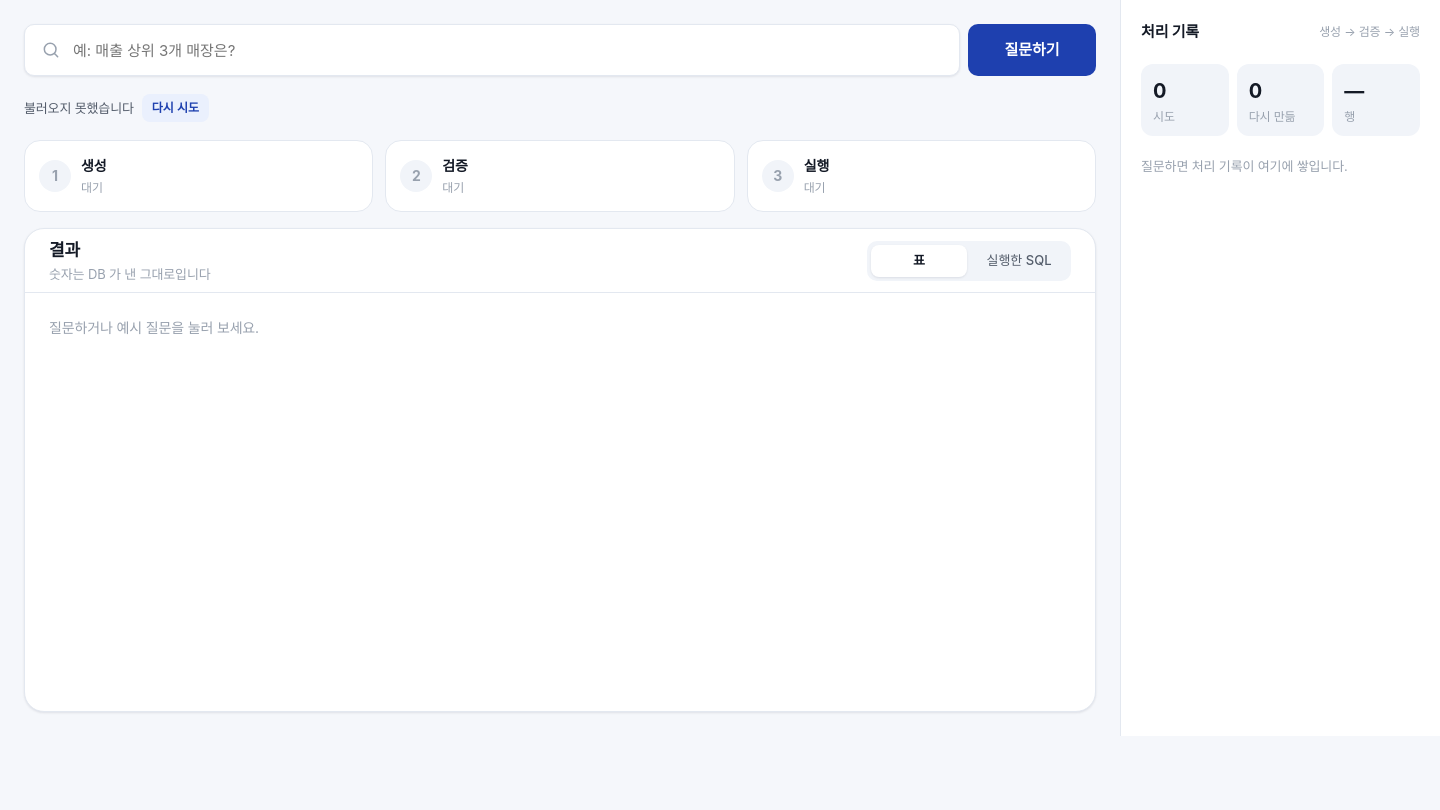
Test case: AskQuery › 예시 질문을 못 불러오면 안내와 다시 시도를 보이고, 다시 시도하면 다시 부른다 (SCR-R014)
Expected: the text "불러오지 못했습니다" is shown, [24,98,134,118]
What coordinates should you click on to do the following:
click the button "다시 시도"
I would click on:
 (175, 108)
Its box is [142,94,209,122].
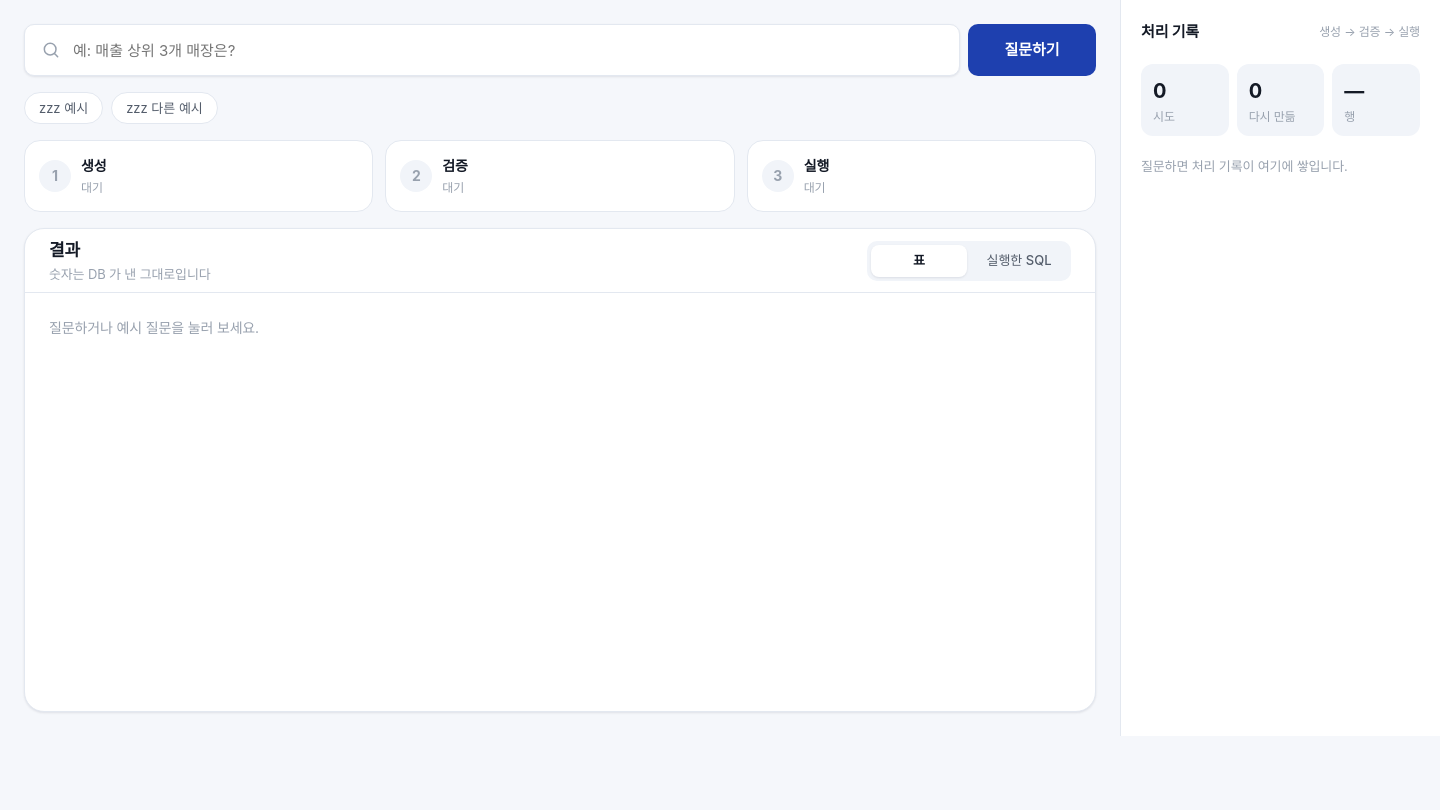
Expected: the button "zzz 예시" is shown, [24,92,103,124]
Expected: the text "불러오지 못했습니다" is gone
